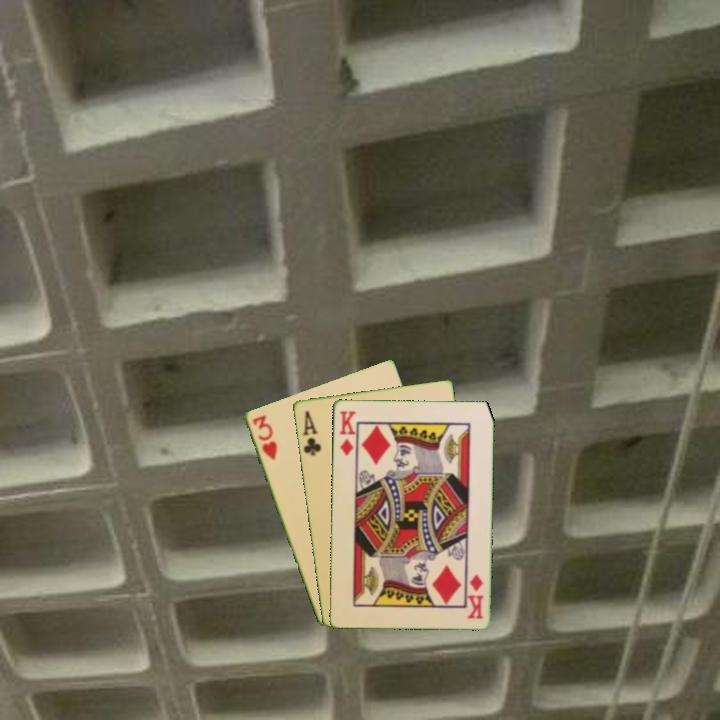3h: (248, 411, 280, 463)
Ac: (299, 407, 324, 458)
Kd: (336, 407, 358, 458), (464, 570, 486, 621)
